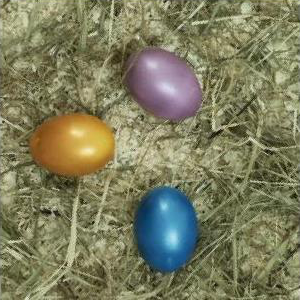egg: (134, 188, 199, 275), (29, 113, 116, 177), (126, 48, 202, 118)
